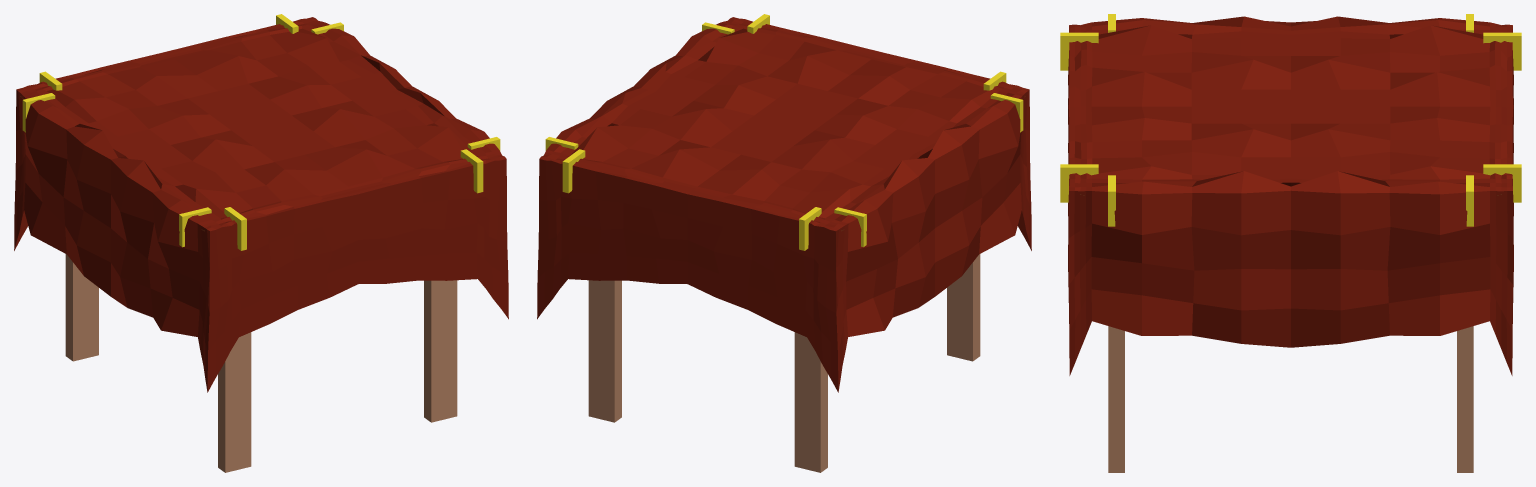
The model's file is tableTILE.glb.
3 views of the same model, side by side, from view 1: azimuth 30°, elevation 25°; view 2: azimuth 150°, elevation 25°; view 3: azimuth 270°, elevation 25° (orthographic). The views are drawn at different scales.
Parts seen in each view (by area): view 1: Cylinder.002; view 2: Cylinder.002; view 3: Cylinder.002.
Part boxes in pixels (box(x1,y1,x2,y2)): Cylinder.002: box(14, 14, 508, 472); Cylinder.002: box(537, 14, 1031, 472); Cylinder.002: box(1060, 14, 1521, 472).
Size of the model in its own units: 1.14 by 0.8876 by 1.18.
Materials: 1 (1 with a texture image).
